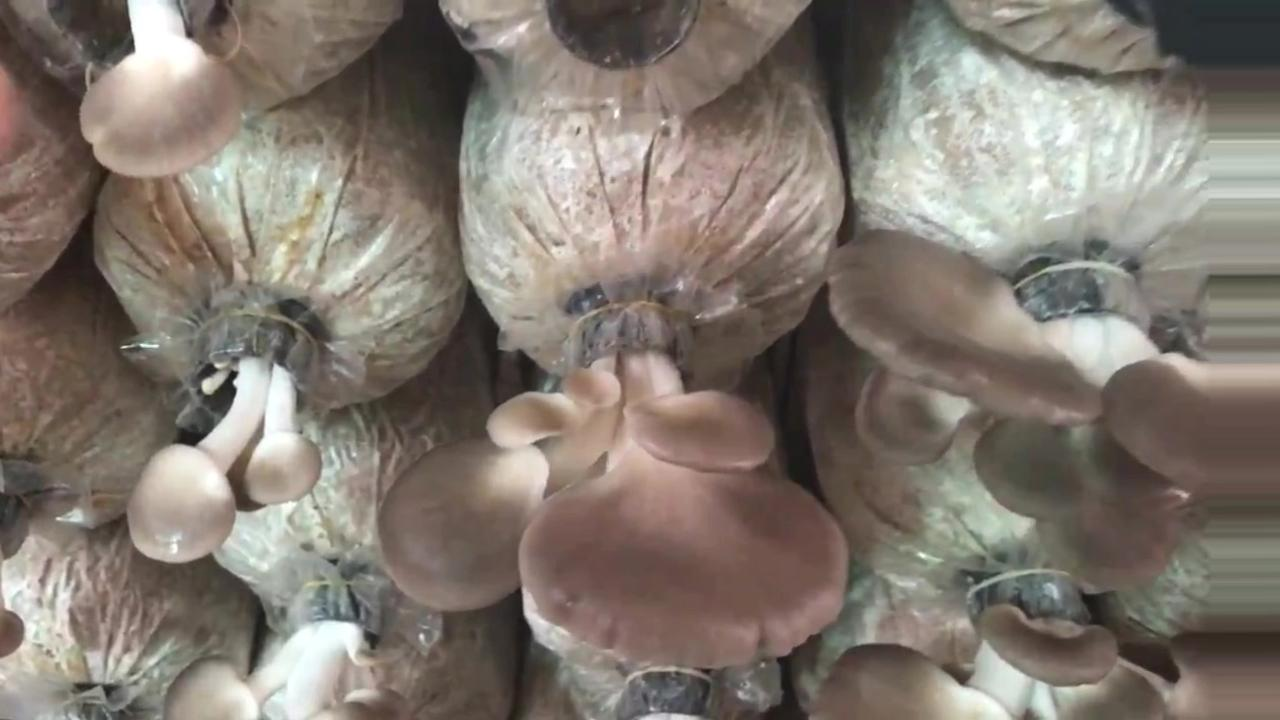nam: (378, 293, 846, 664), (828, 230, 1280, 581), (813, 560, 1280, 718), (128, 284, 327, 562), (163, 575, 410, 718), (79, 1, 242, 180)
